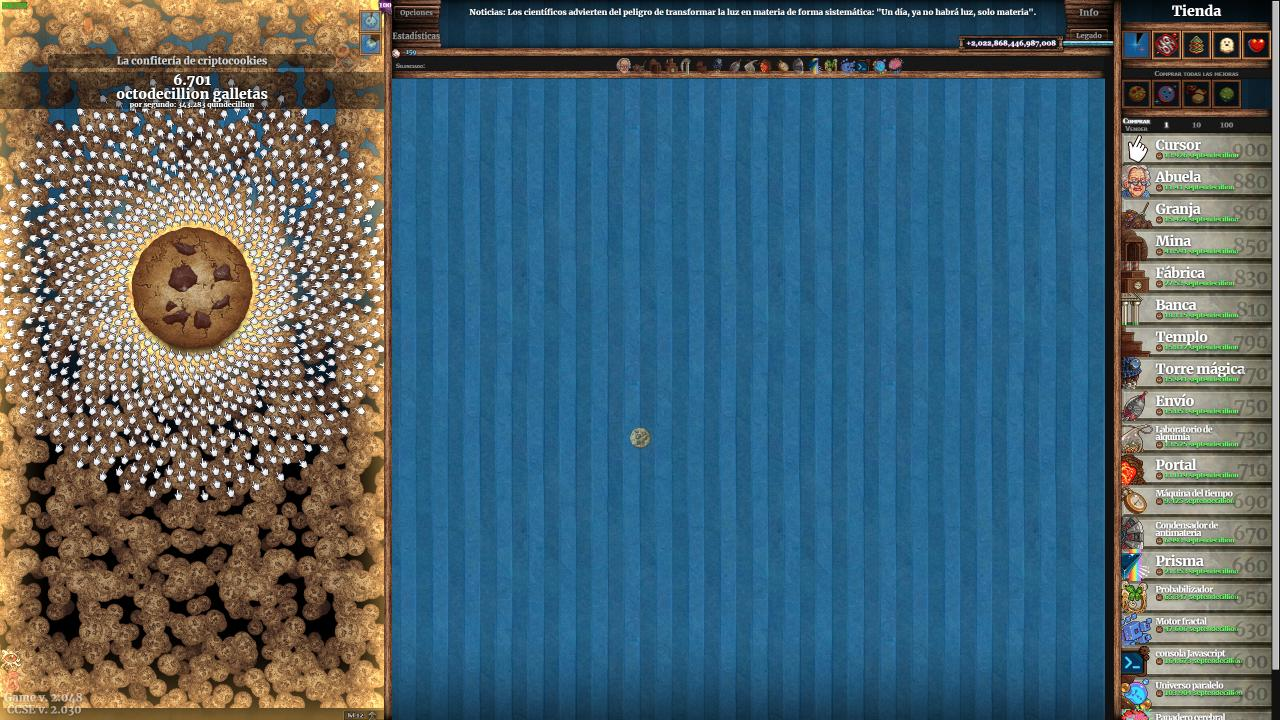GoldenCookie: (629, 426, 652, 451)
